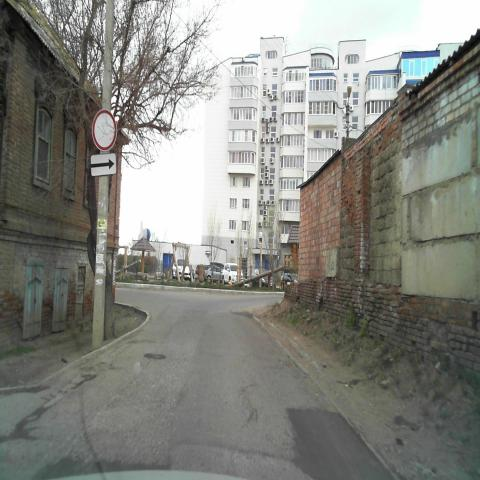3_2: (91, 109, 117, 152)
8_3_1: (90, 153, 116, 175)
